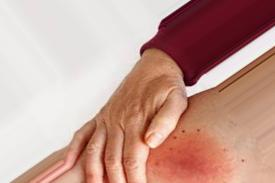Tick: (161, 133, 230, 182)
